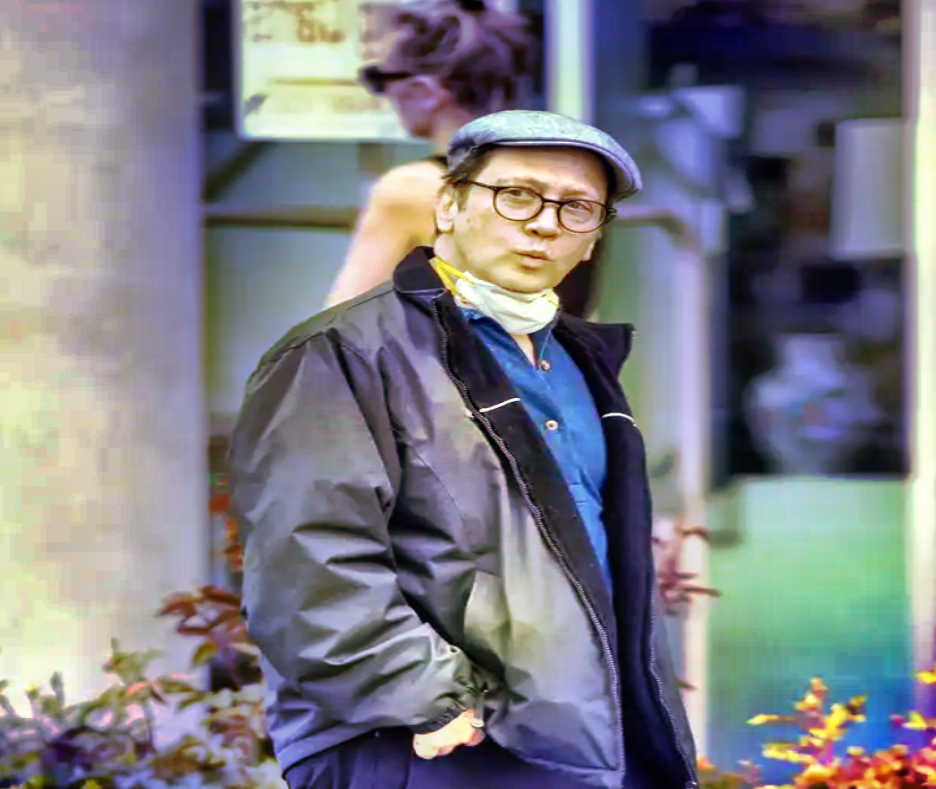mask_weared_incorrect: (410, 104, 643, 339)
